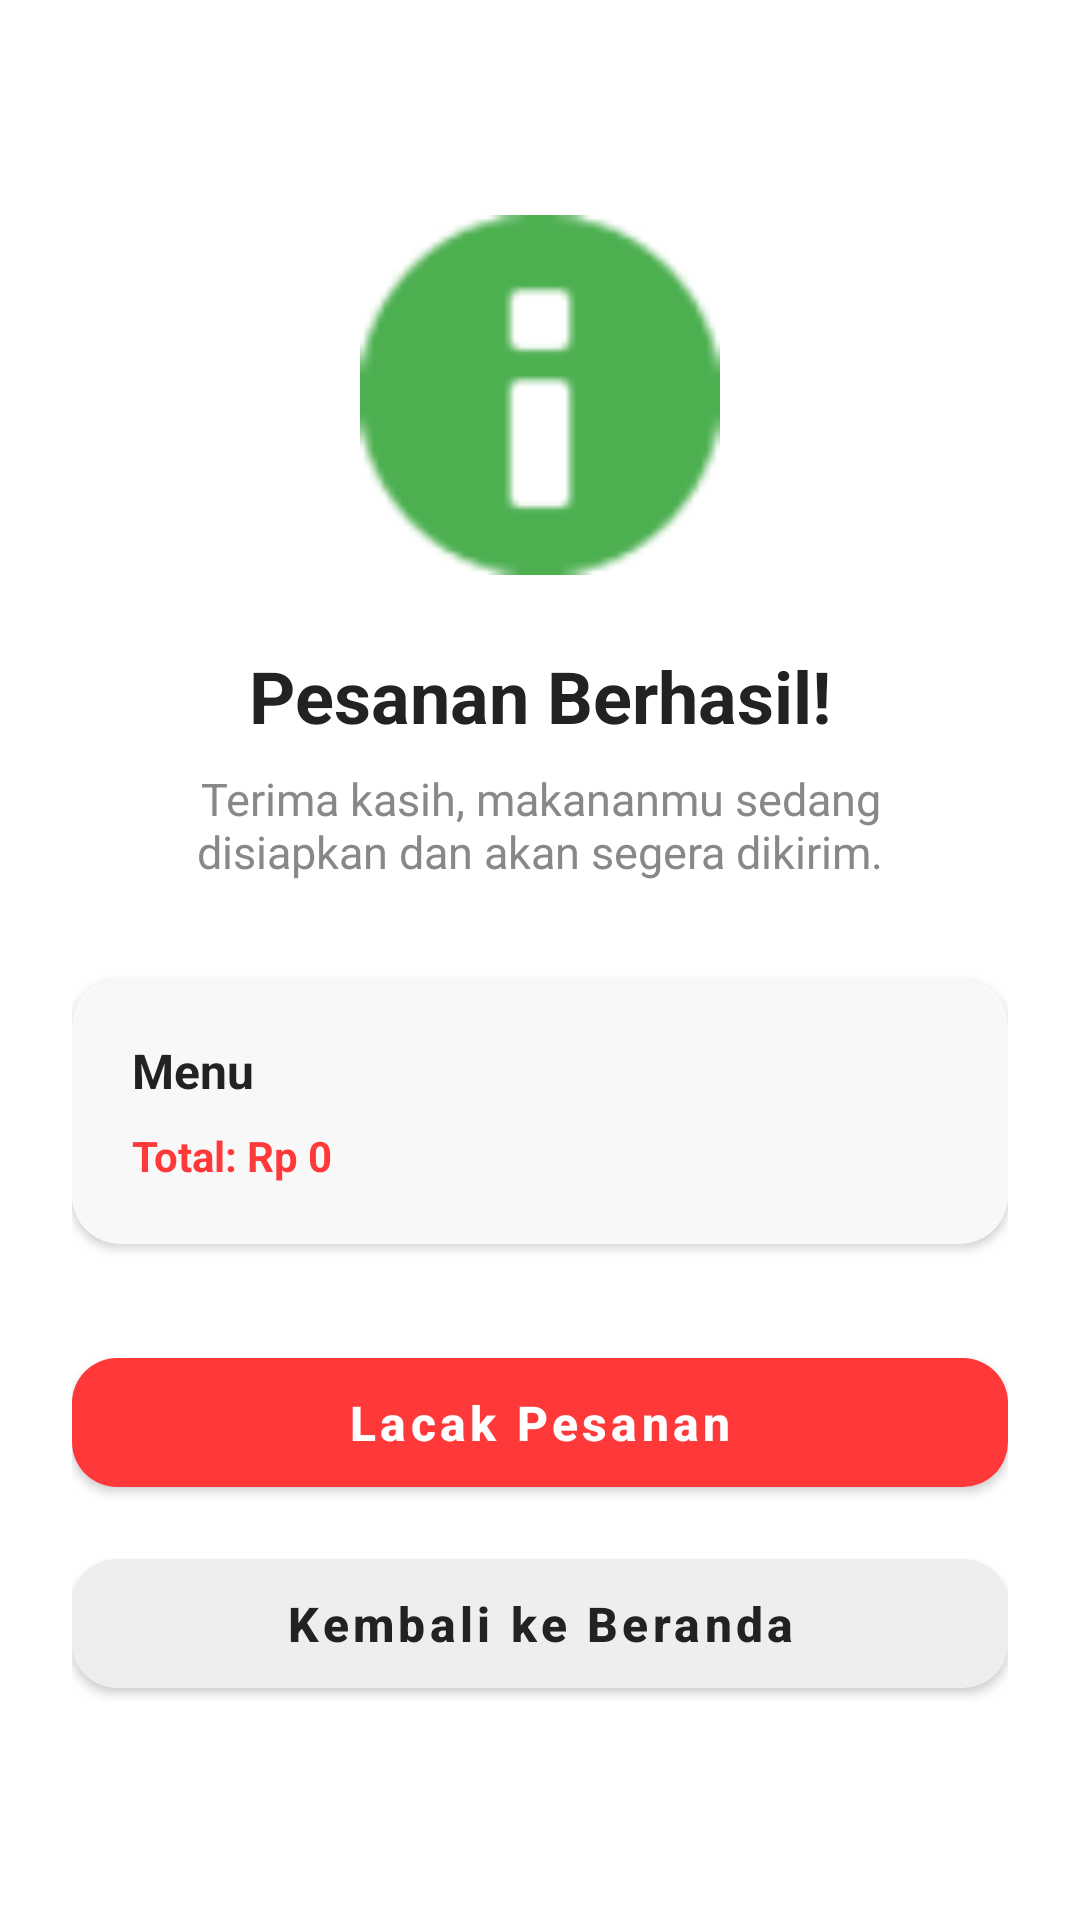

Locate icon controls on the screen. Image size 1080x1920, boxes as {"left": x1, "top": y1, "right": x2, "bottom": y2}.
info: {"left": 360, "top": 215, "right": 720, "bottom": 575}
